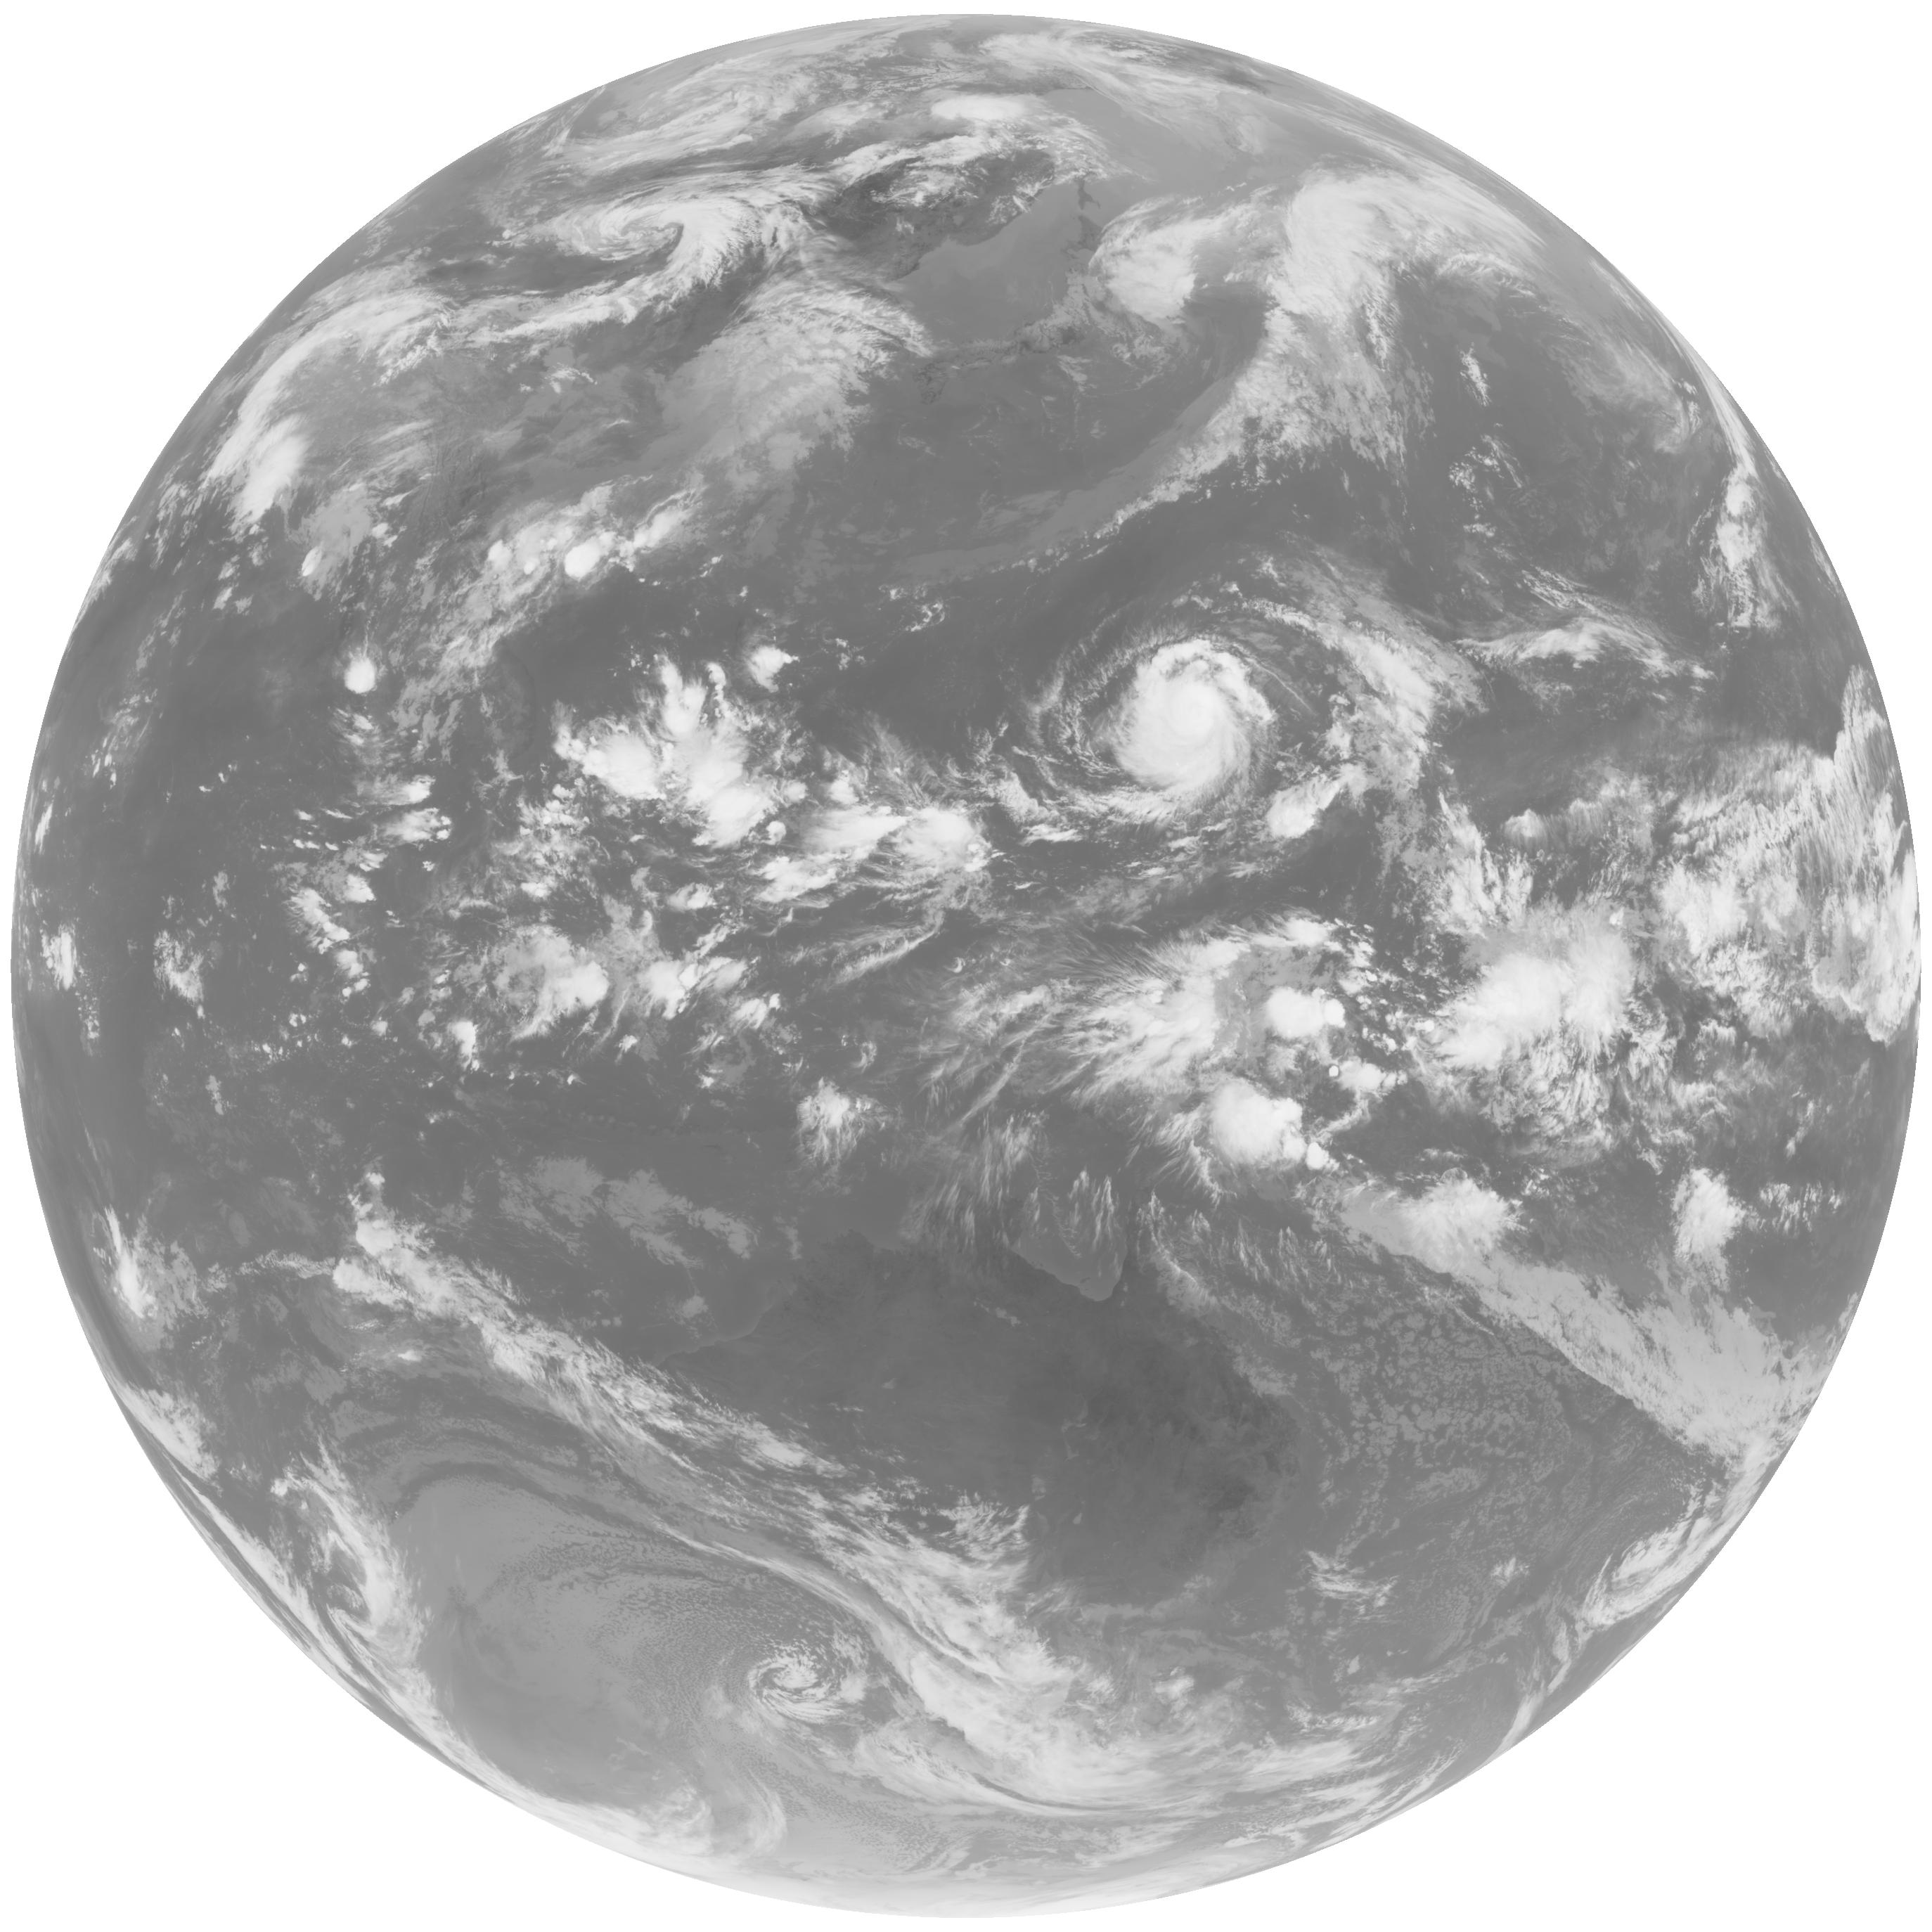typhoon: (948, 568, 1391, 904)
